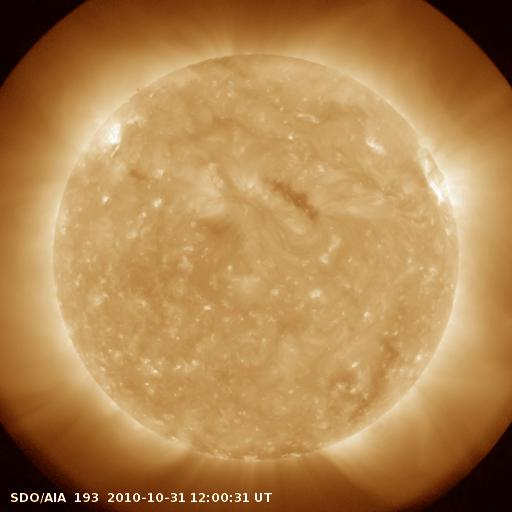coronal_hole: (329, 338, 397, 427), (264, 174, 319, 220)
